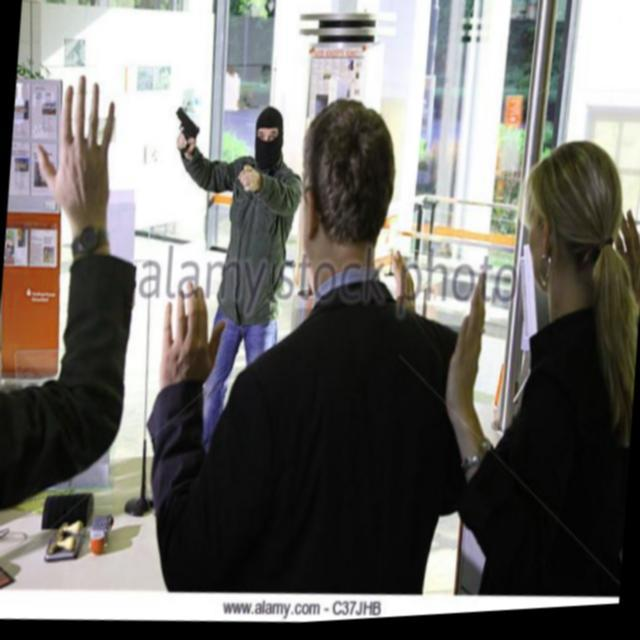weapon: (169, 104, 204, 162)
